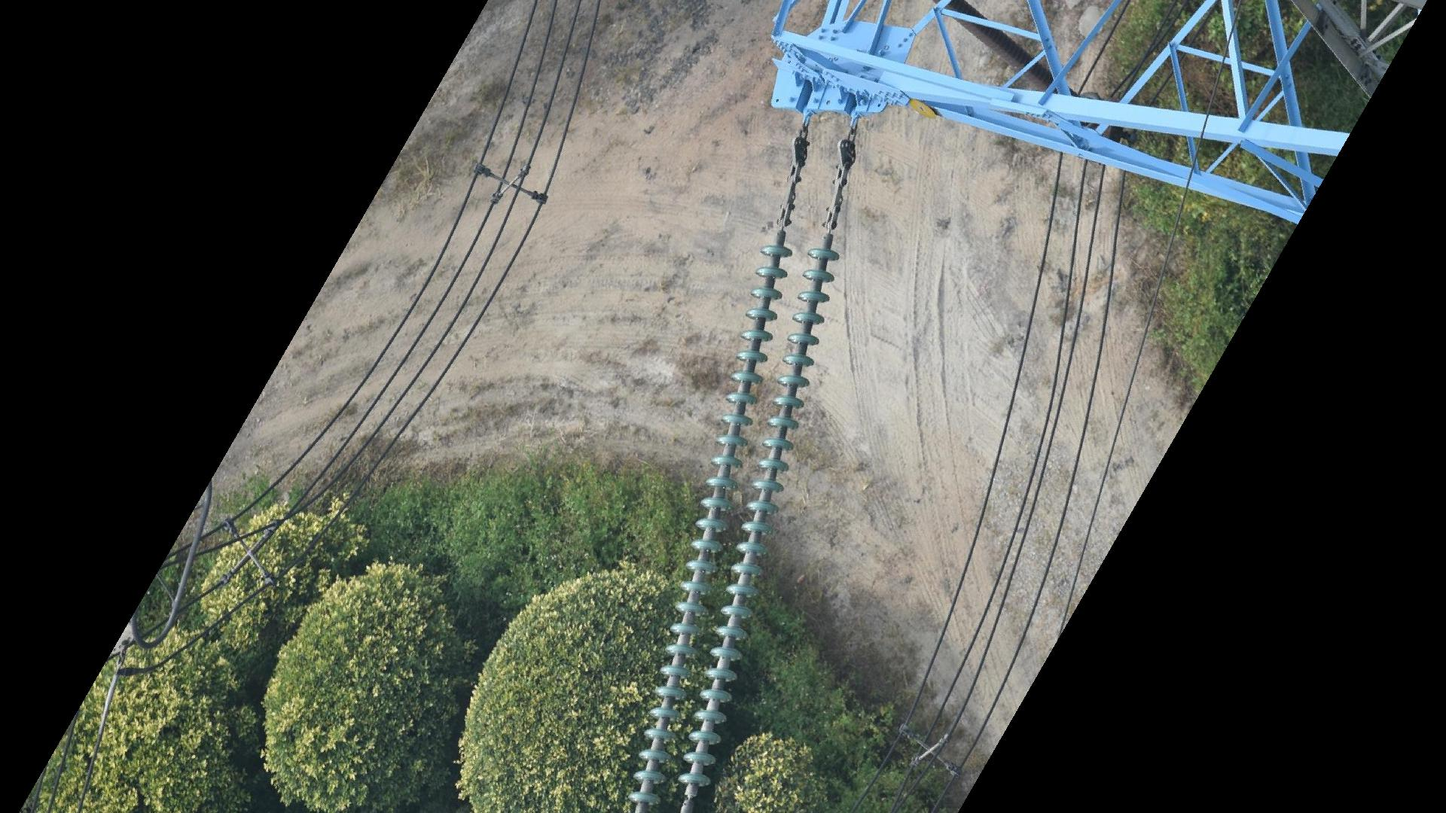insulator: (621, 239, 799, 813), (674, 238, 844, 800)
